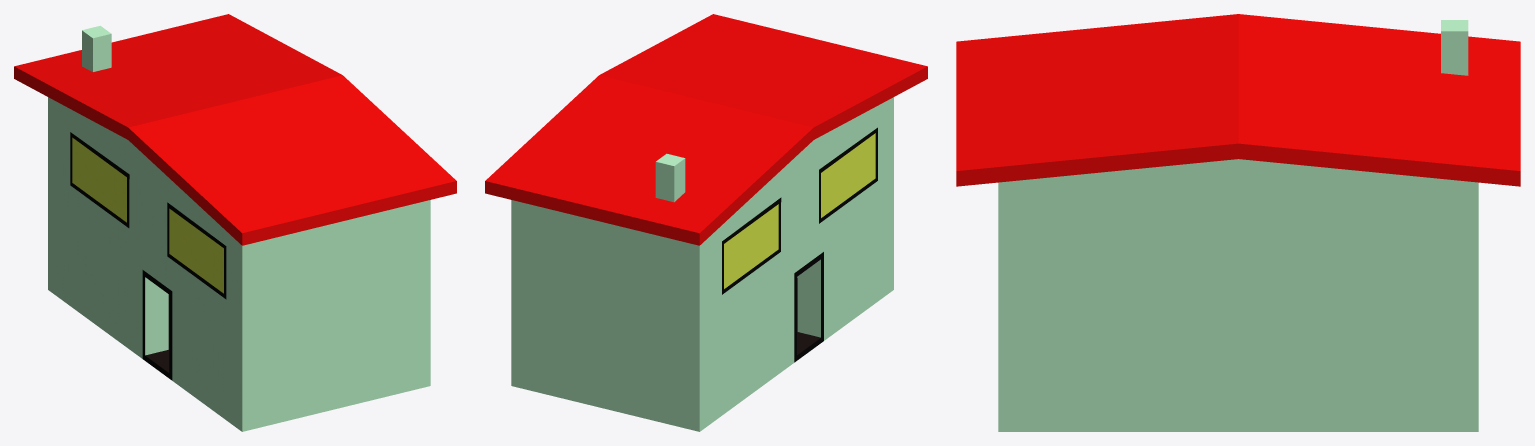
The model's file is RedRoof.obj.
The picture shows the model from 3 angles, left to right: view 1: azimuth 30°, elevation 25°; view 2: azimuth 150°, elevation 25°; view 3: azimuth 270°, elevation 25°; orthographic projection. The views are drawn at different scales.
Parts seen in each view (by area): view 1: Cube.003_Cube.015; view 2: Cube.003_Cube.015; view 3: Cube.003_Cube.015.
Part boxes in pixels (x1,y1,x2,y2): Cube.003_Cube.015: (14,14,456,431); Cube.003_Cube.015: (485,14,927,431); Cube.003_Cube.015: (956,14,1520,431).
Size of the model in its own units: 22.66 by 25.77 by 41.71.
